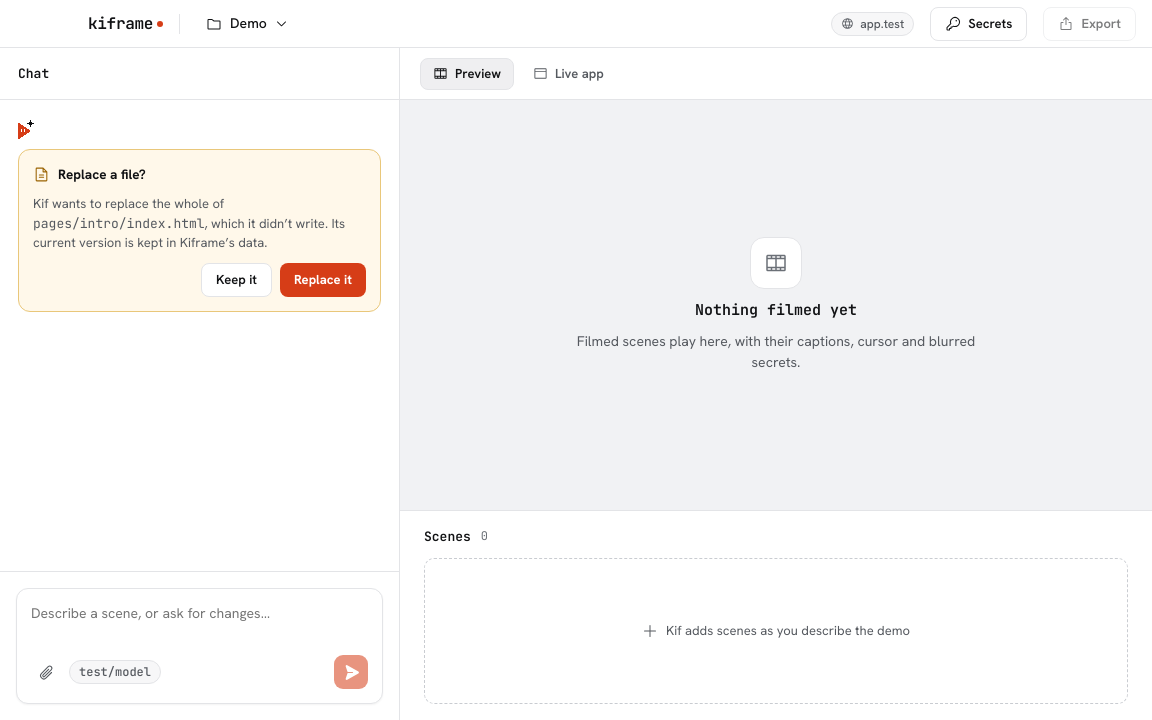
Scenario: the chat › asks before deleting a file, or replacing one the agent didn't write
expect the text box named "Message Kif" is shown: met, box [31,603,368,645]
expect the element "Replace a file?" shows "replace the whole of pages/intro/index.html, which it didn’t write": met, box [18,149,381,312]
Click the button "Keep it": (236,280) [201,263,272,297]
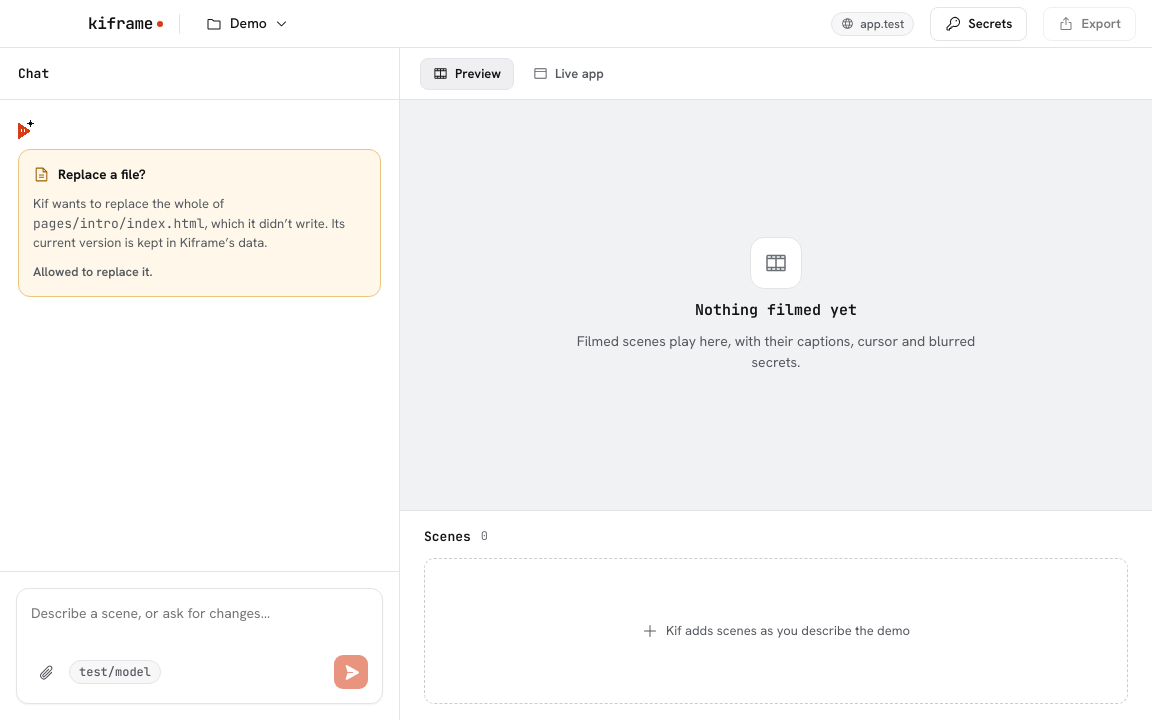
expect the element "Replace a file?" shows "Allowed to replace it.": met, box [33,263,153,280]
